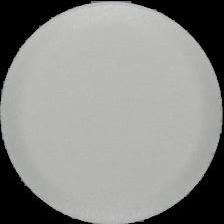52125-912: (0, 0, 224, 224)
